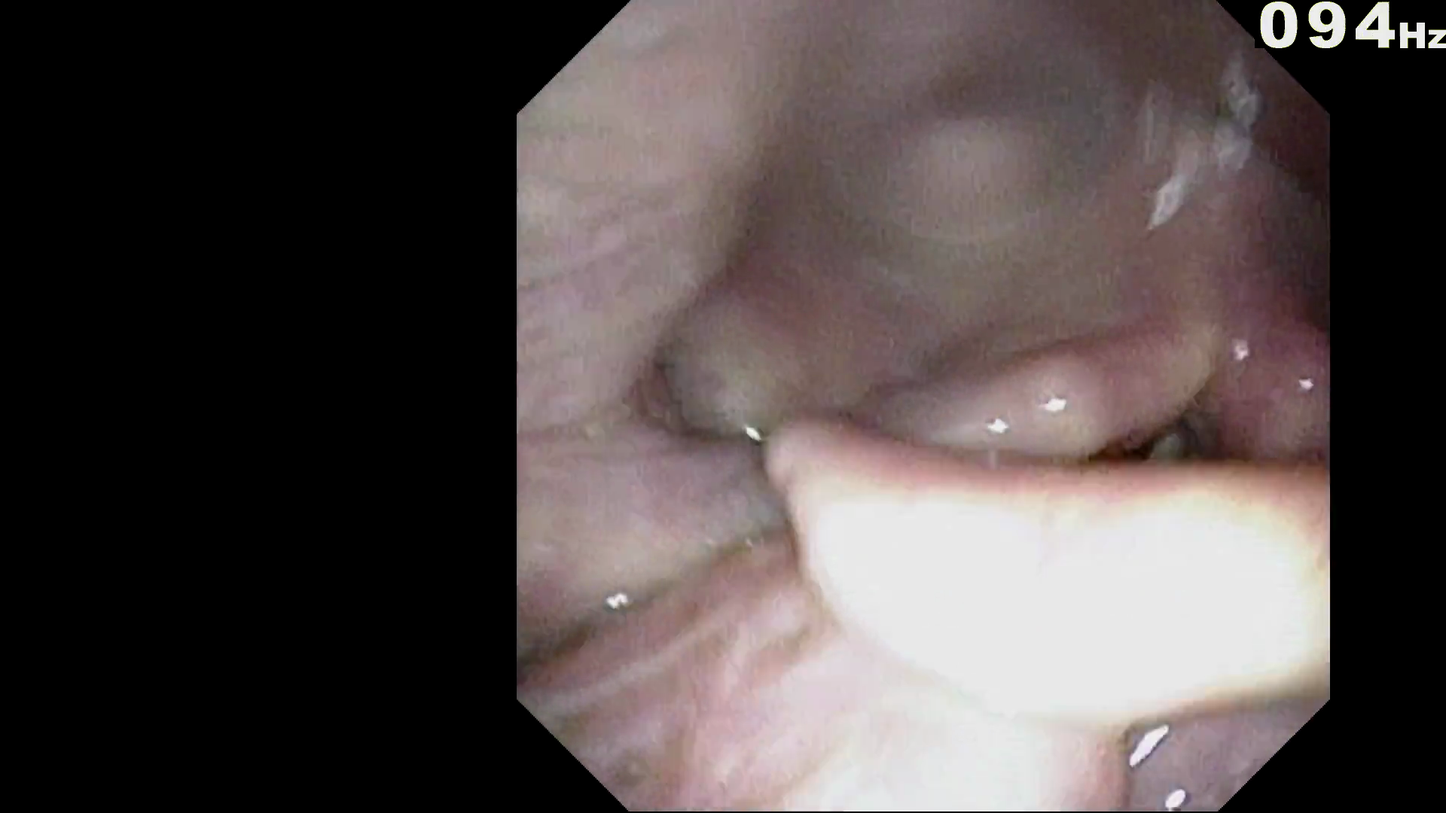epiglottis: (819, 449, 1305, 674)
trachea: (1081, 398, 1183, 483)
